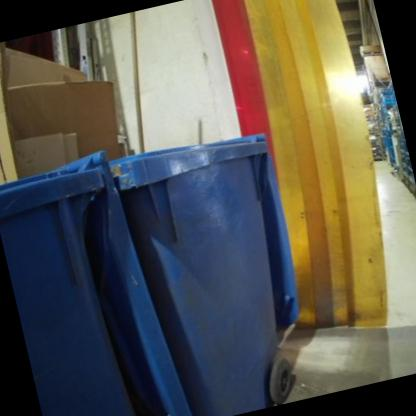pallet: (360, 47, 383, 60)
stillage: (366, 129, 391, 167), (360, 98, 384, 137)
